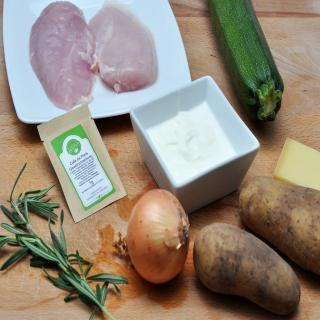Potato: (192, 222, 301, 316), (239, 175, 320, 277)
